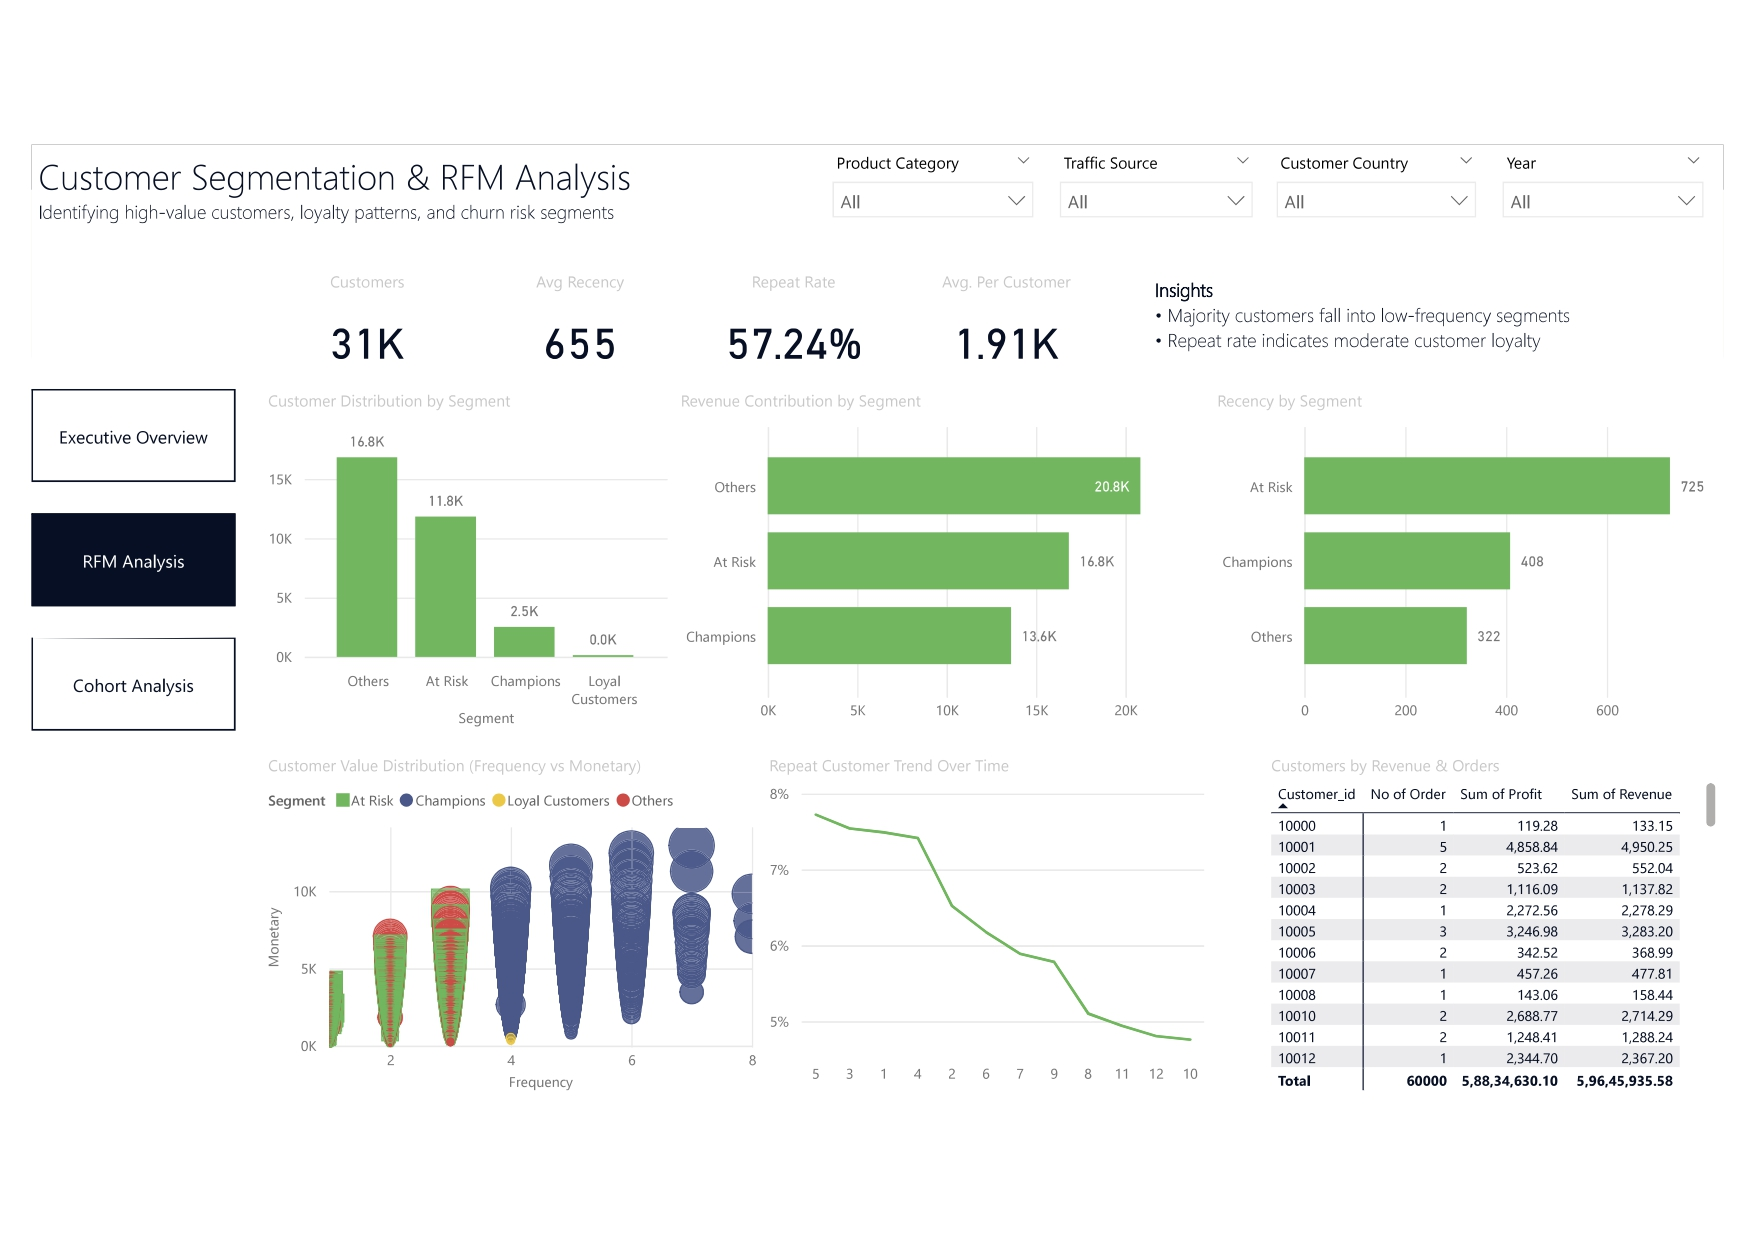

What the dashboard file says about the page in this screenshot:
{"tool":"powerbi","page":{"name":"RFM Analysis","canvas":[1280,720],"ordinal":1},"visuals":[{"type":"slicer","fields":{"Values":["sales.product_category"]},"box":[595.9,0,171.7,69.7],"z":0},{"type":"slicer","fields":{"Values":["sales.customer_country"]},"box":[931.7,0,171.7,69.7],"z":1000},{"type":"slicer","fields":{"Values":["sales.traffic_source"]},"box":[767.5,0,166.7,69.7],"z":2000},{"type":"clusteredColumnChart","title":"Customer Distribution by Segment","fields":{"Category":["Customer Summary.Segment"],"Y":["Calculations.Total Customers"]},"box":[174.3,185.2,311.5,259.3],"z":3000},{"type":"card","title":"Avg Recency","fields":{"Values":["Calculations.Avg Recency"]},"box":[334.9,94.7,160.5,90.6],"z":4000},{"type":"card","title":"Customers","fields":{"Values":["Calculations.Total Customers"]},"box":[174.3,94.7,160,90.6],"z":5000},{"type":"card","title":"Repeat Rate","fields":{"Values":["Calculations.Repeat Rate"]},"box":[496.1,94.7,160.5,90.6],"z":6000},{"type":"card","title":"Avg. Per Customer","fields":{"Values":["Calculations.Avg Revenue per Customer"]},"box":[657.3,94.7,160.5,90.6],"z":7000},{"type":"textbox","box":[0,0,595.5,70],"z":8000},{"type":"pageNavigator","box":[0,185.2,153.7,259.3],"z":9000},{"type":"slicer","fields":{"Values":["Date.Year"]},"box":[1103.4,0,171.7,69.7],"z":10000},{"type":"clusteredBarChart","title":"Revenue Contribution by Segment","fields":{"Category":["Customer Summary.Segment"],"Y":["Calculations.Total Revenue"]},"box":[485.8,185.2,396.6,259.3],"z":11000},{"type":"pivotTable","title":"Customers by Revenue & Orders","fields":{"Rows":["Customer Summary.customer_id"],"Values":["CountNonNull(sales.order_id)","Sum(sales.profit)","Sum(sales.revenue)"]},"box":[933.1,461.1,347.2,259.3],"z":12000},{"type":"clusteredBarChart","title":"Recency by Segment","fields":{"Category":["Customer Summary.Segment"],"Y":["Calculations.Recency"]},"box":[891.9,185.2,388.3,259.3],"z":13000},{"type":"scatterChart","title":"Customer Value Distribution (Frequency vs Monetary)","fields":{"X":["Customer Summary.Frequency"],"Y":["Customer Summary.Monetary"],"Series":["Customer Summary.Segment"],"Size":["Calculations.Total Revenue"]},"box":[174.3,461.1,378.7,259.3],"z":14000},{"type":"lineChart","title":"Repeat Customer Trend Over Time","fields":{"Category":["Date.Month"],"Y":["Calculations.Repeat Rate"]},"box":[553,461.1,338.9,259.3],"z":15000},{"type":"textbox","box":[845.3,94.7,429.5,70],"z":16000}]}

Visuals, with their boxes on the page's 1280x720 design canvas (x1, y1, x2, y2). These are canvas units, not pixel positions in the 1755x1241 screenshot, which may show the page scaled, cropped or inside an application window:
slicer - sales.product_category: <box>596,0,768,70</box>
slicer - sales.customer_country: <box>932,0,1103,70</box>
slicer - sales.traffic_source: <box>768,0,934,70</box>
"Customer Distribution by Segment" clusteredColumnChart: <box>174,185,486,444</box>
"Avg Recency" card: <box>335,95,495,185</box>
"Customers" card: <box>174,95,334,185</box>
"Repeat Rate" card: <box>496,95,657,185</box>
"Avg. Per Customer" card: <box>657,95,818,185</box>
textbox: <box>0,0,596,70</box>
pageNavigator: <box>0,185,154,444</box>
slicer - Date.Year: <box>1103,0,1275,70</box>
"Revenue Contribution by Segment" clusteredBarChart: <box>486,185,882,444</box>
"Customers by Revenue & Orders" pivotTable: <box>933,461,1280,720</box>
"Recency by Segment" clusteredBarChart: <box>892,185,1280,444</box>
"Customer Value Distribution (Frequency vs Monetary)" scatterChart: <box>174,461,553,720</box>
"Repeat Customer Trend Over Time" lineChart: <box>553,461,892,720</box>
textbox: <box>845,95,1275,165</box>
